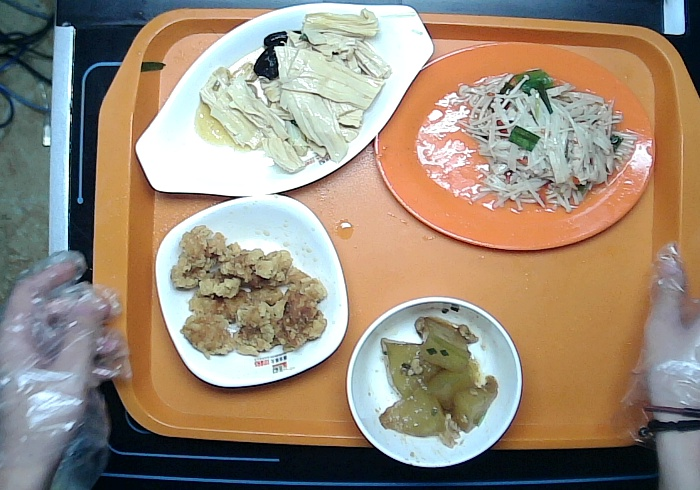NLDX-Bai_Se_Xiao_Fang_Die: (153, 192, 352, 391)
NLDX-Fan_Wan: (345, 294, 525, 470)
NLDX-Ju_Se_Pan: (371, 40, 659, 253)
NLDX-Yu_Pan: (132, 1, 437, 200)
